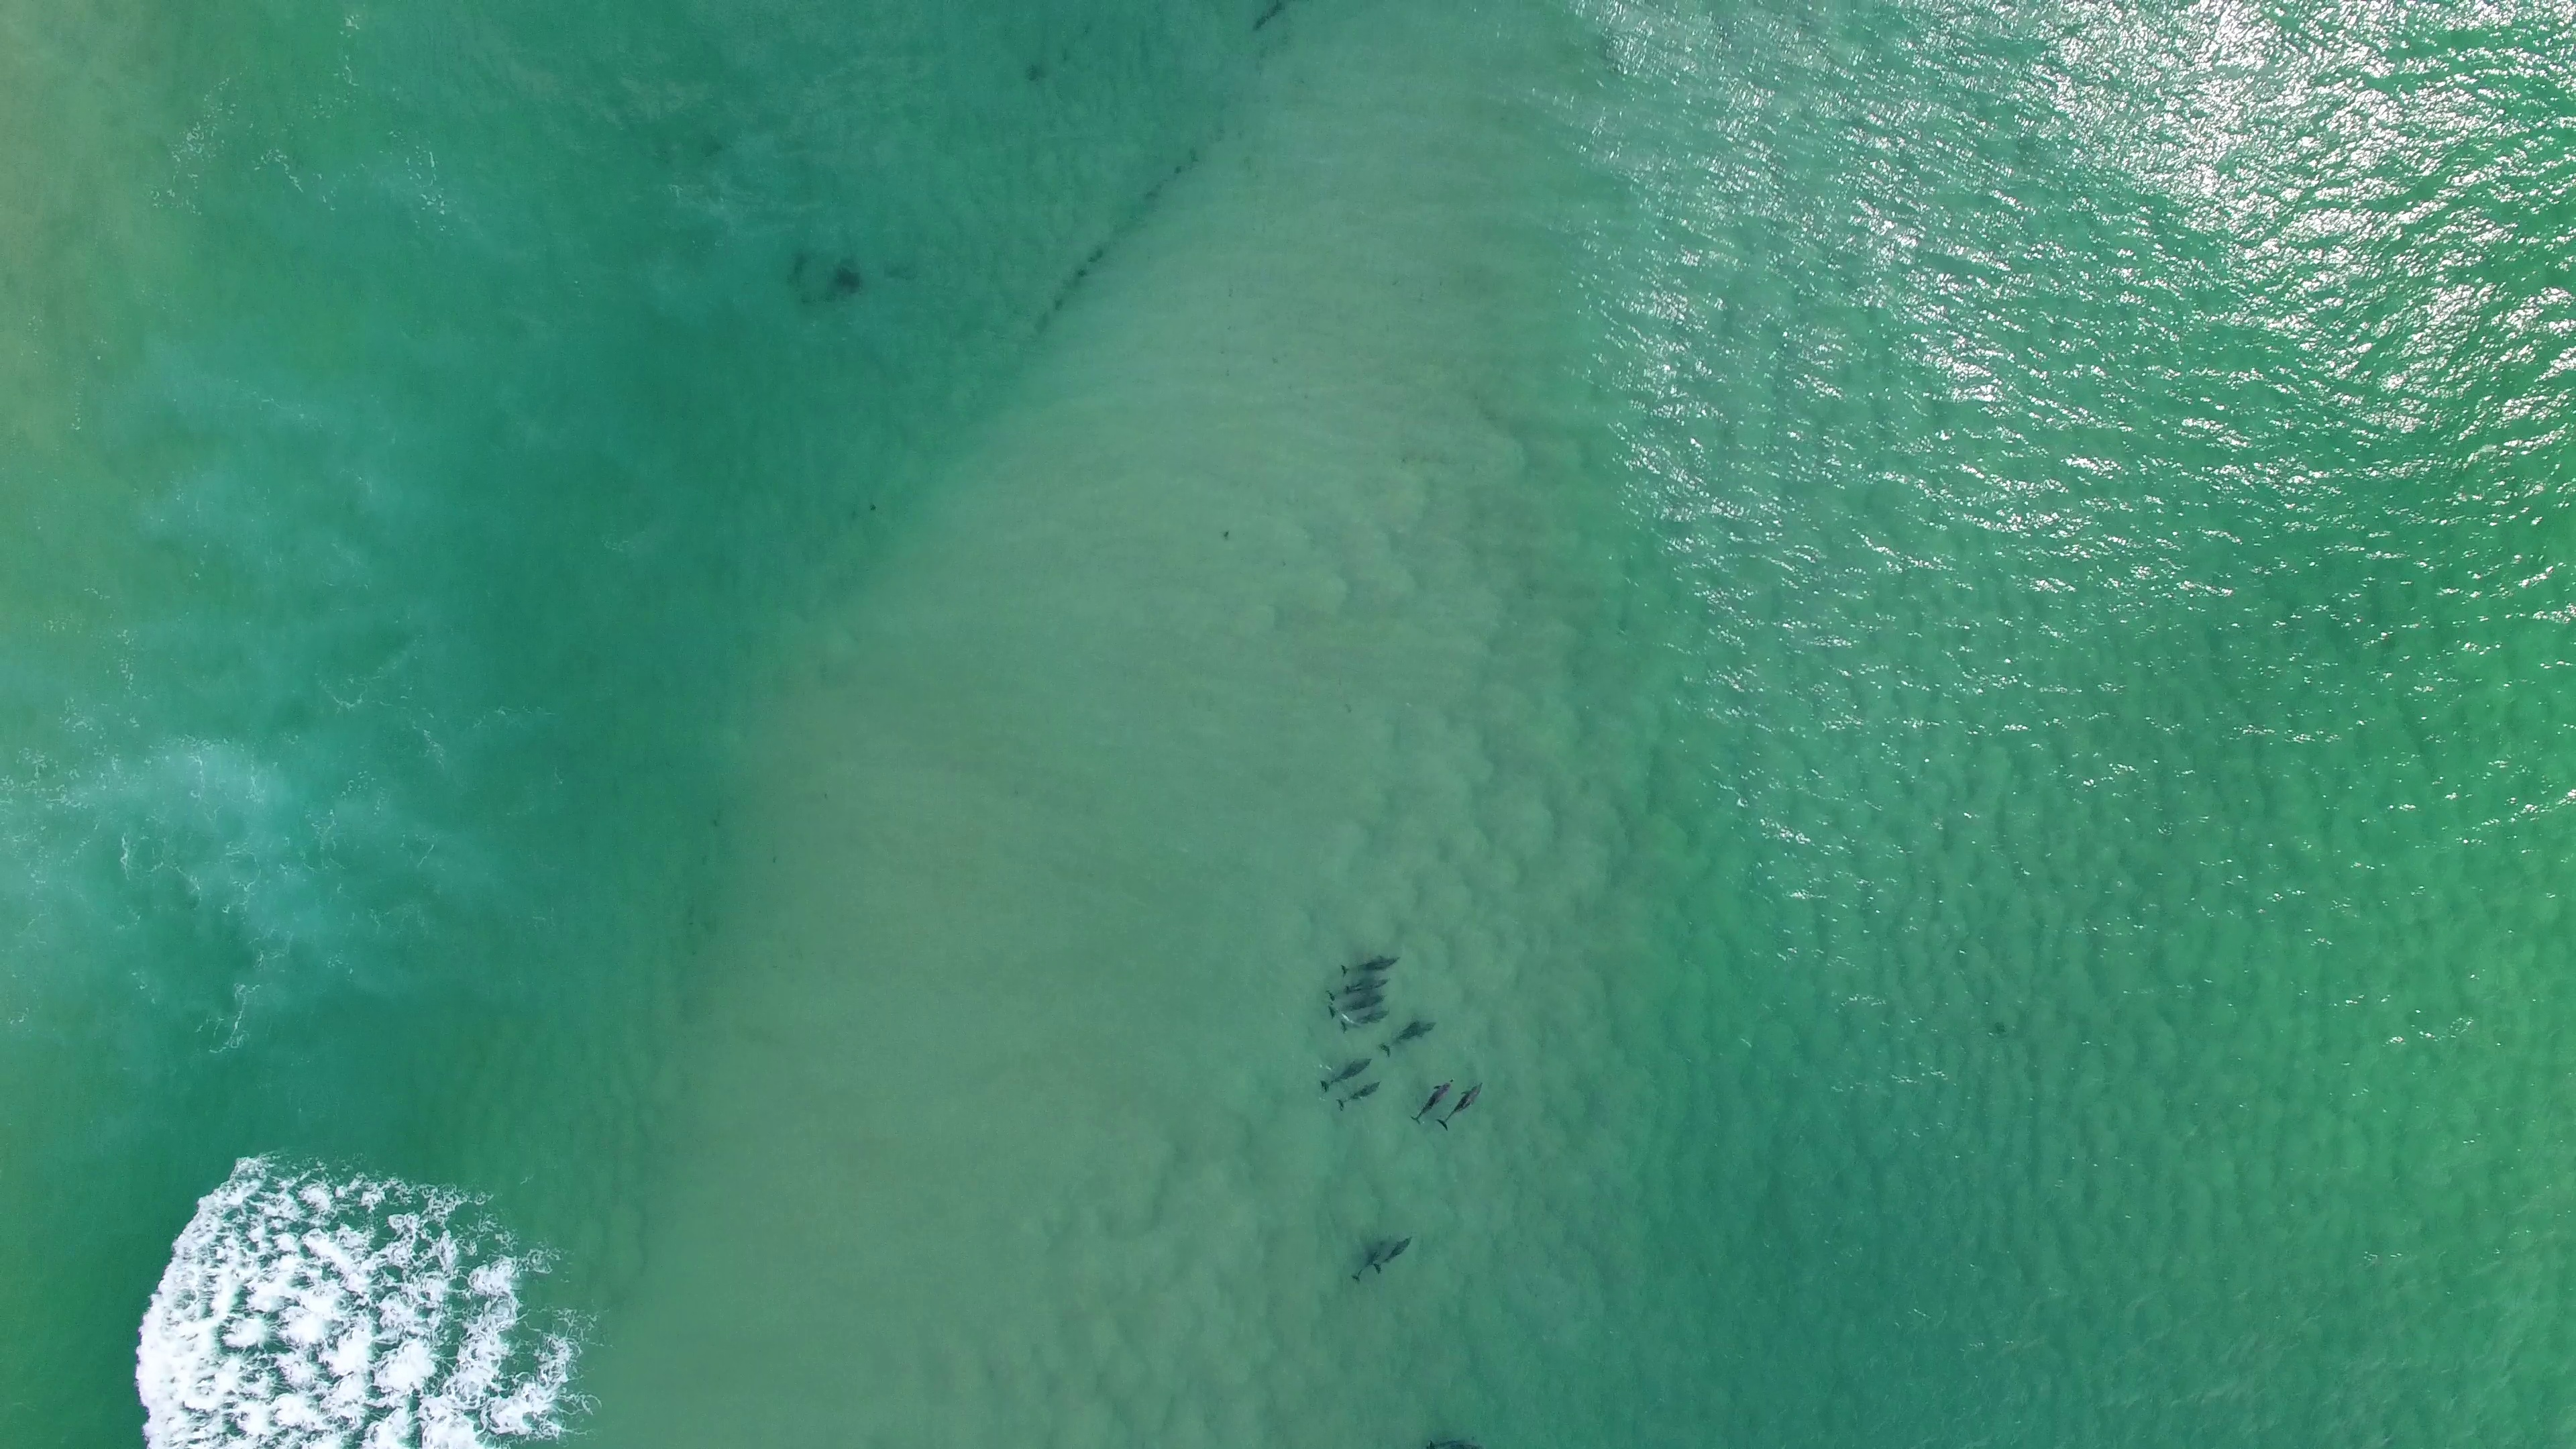dolphin: (1435, 1079, 1484, 1127), (1407, 1079, 1458, 1123), (1318, 1056, 1371, 1093), (1323, 991, 1392, 1019), (1382, 1019, 1437, 1054), (1350, 1238, 1385, 1284), (1339, 950, 1403, 975), (1327, 975, 1391, 1000), (1373, 1235, 1414, 1272), (1338, 1079, 1382, 1109), (1343, 1008, 1391, 1033)
